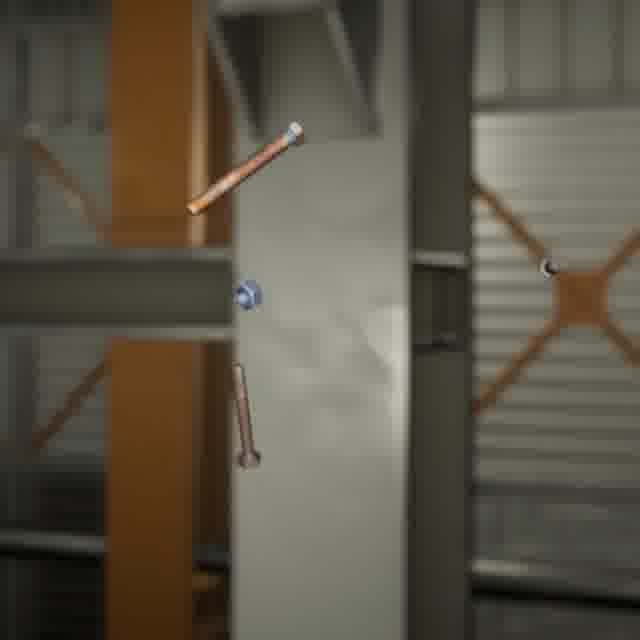bolt: (180, 116, 310, 221), (227, 358, 265, 472), (534, 252, 570, 281)
nut: (229, 274, 266, 314)
